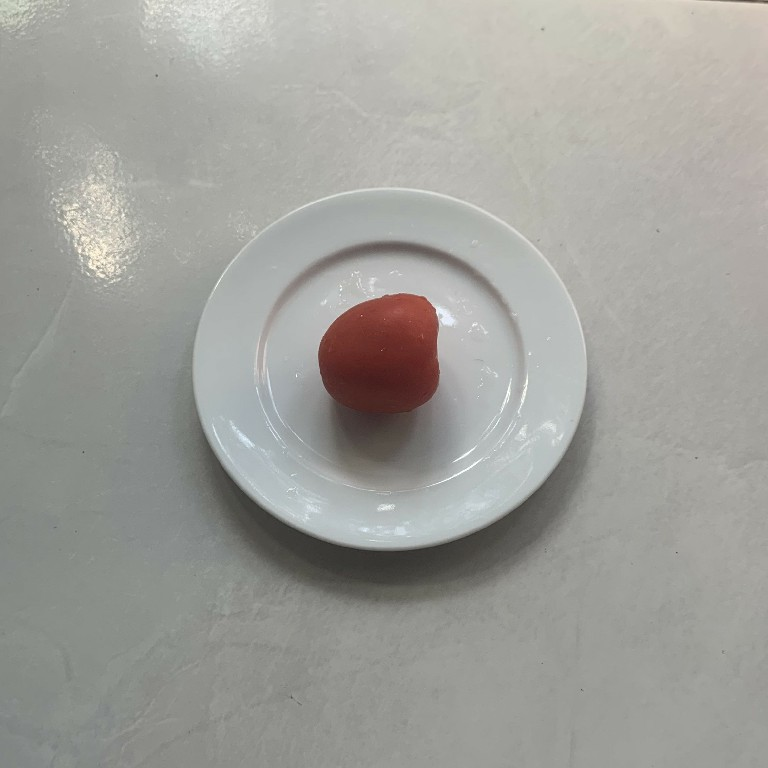OK: (314, 286, 454, 422)
